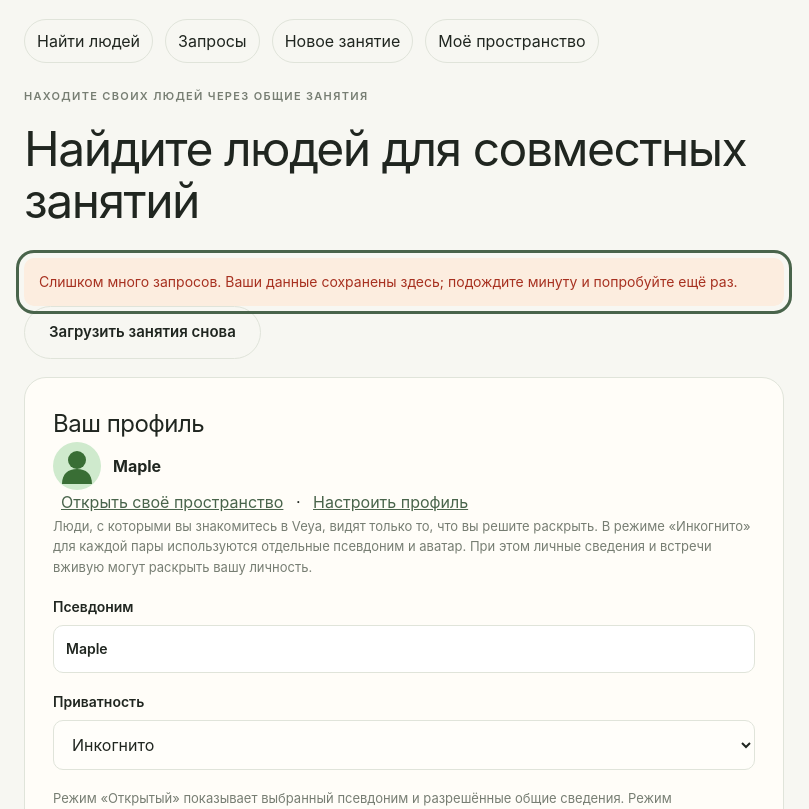
keeps failed activity loading distinct from an empty list and retries explicitly (429)
Expected: the message is shown, [24,258,784,306]
Expected: the dropdown labelled "Ваша активная заявка" is not shown
Click the button "Загрузить занятия снова": point(142, 333) [24,306,261,359]
(page scrolled)
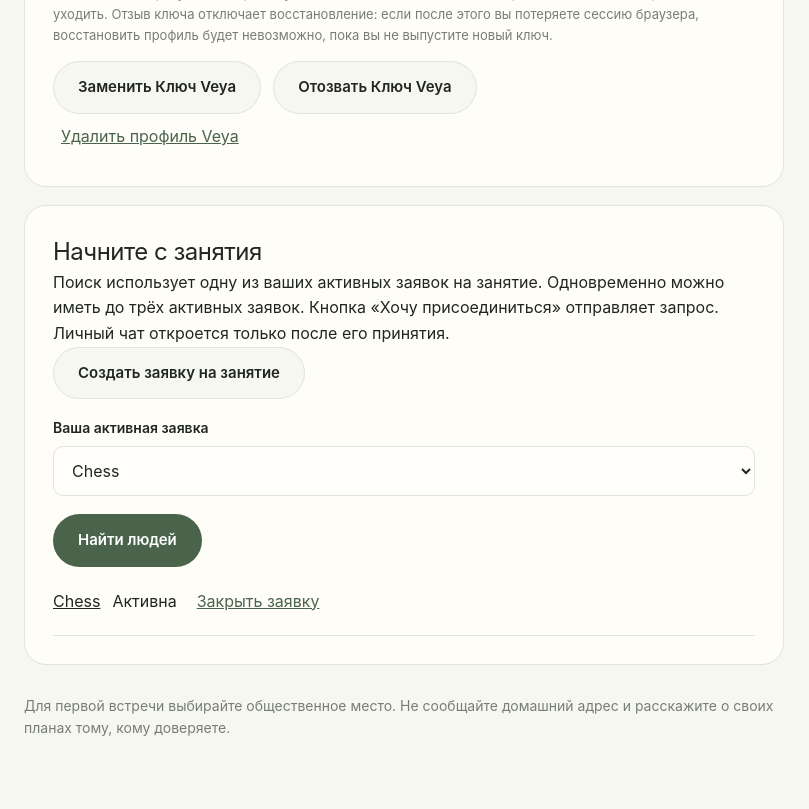
Expected: the message is gone
